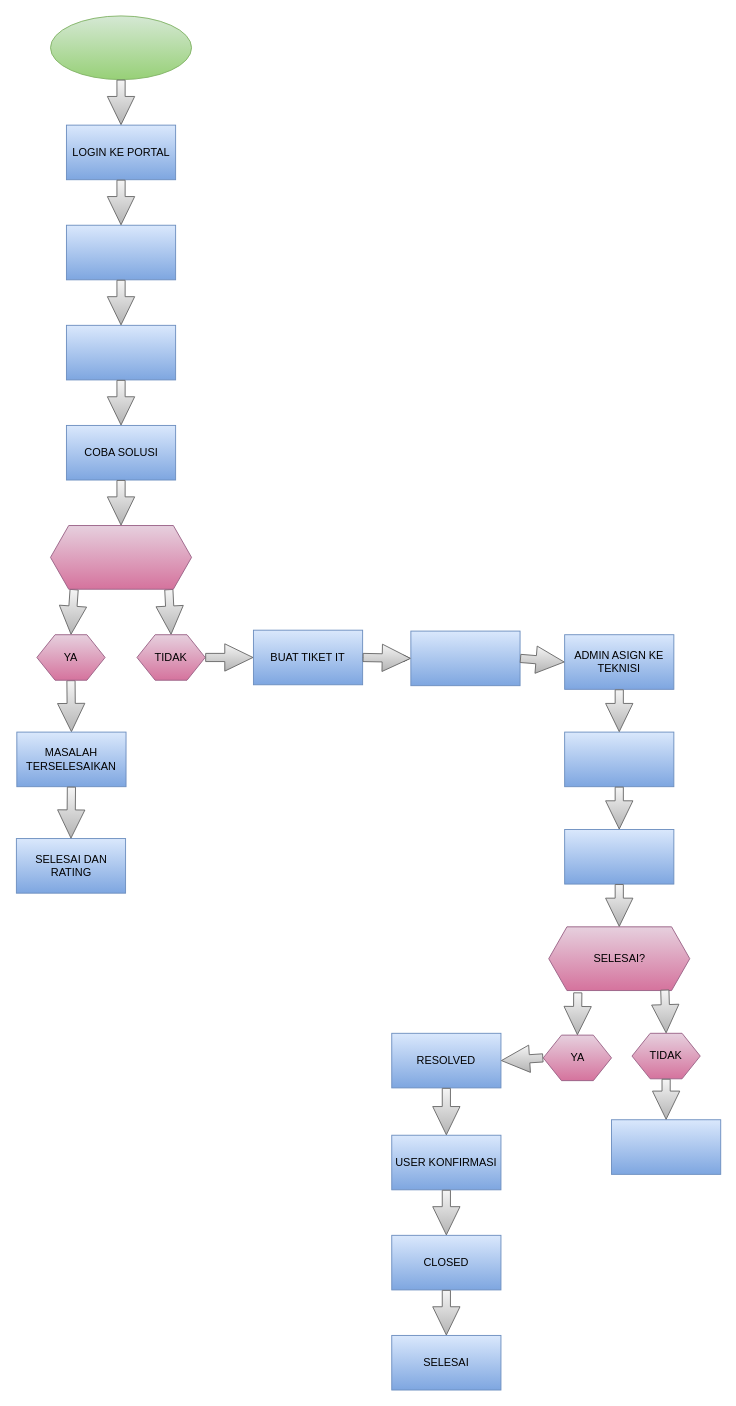
Some shapes in this 736 by 1406 pixel diagram are drawn without their labels. Here are the shapes that lost their labels. From the top down, the box of each, then its label:
(50, 15, 192, 80): MULAI
(66, 224, 176, 280): CARI/PILIH MASALAH IT
(66, 324, 176, 380): CARI PANDUAN TROUBLESHOOTING
(50, 525, 192, 589): BERHASIL?
(410, 630, 520, 686): TIKET DIPROSES
(564, 731, 674, 787): TEKNISI MENANGANI
(564, 829, 674, 884): UPDATE STATUS DAN SOLUSI
(611, 1119, 721, 1174): KEMBALI KE "TEKNISI MENANGANI"
